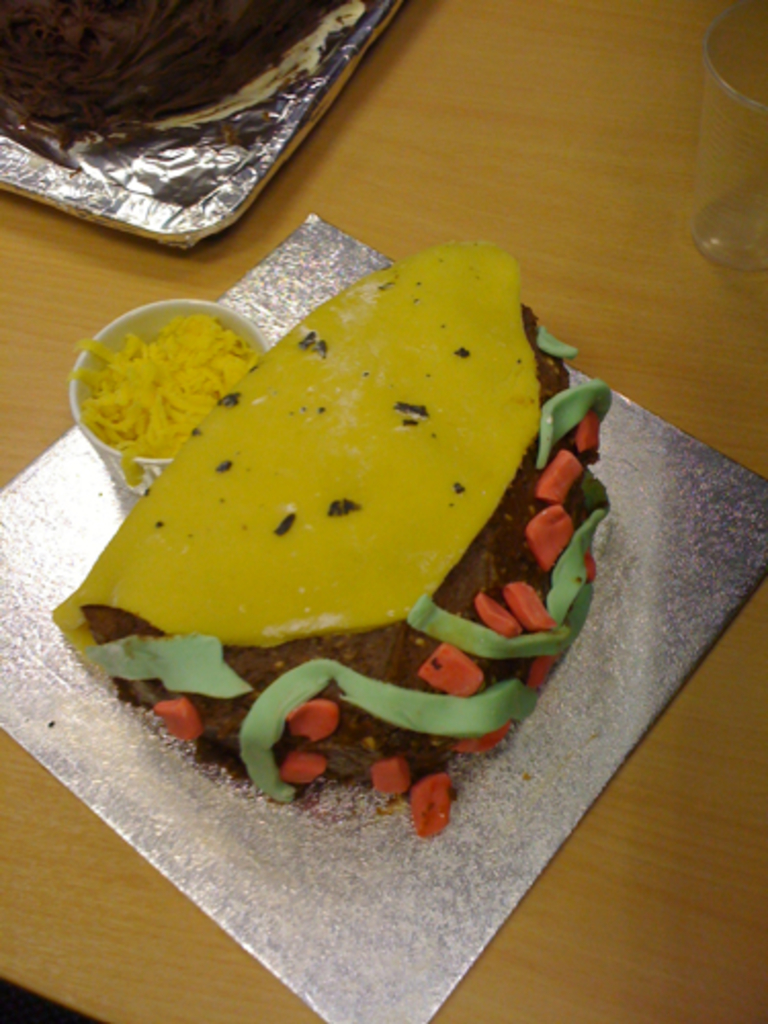taco: (100, 236, 569, 793)
